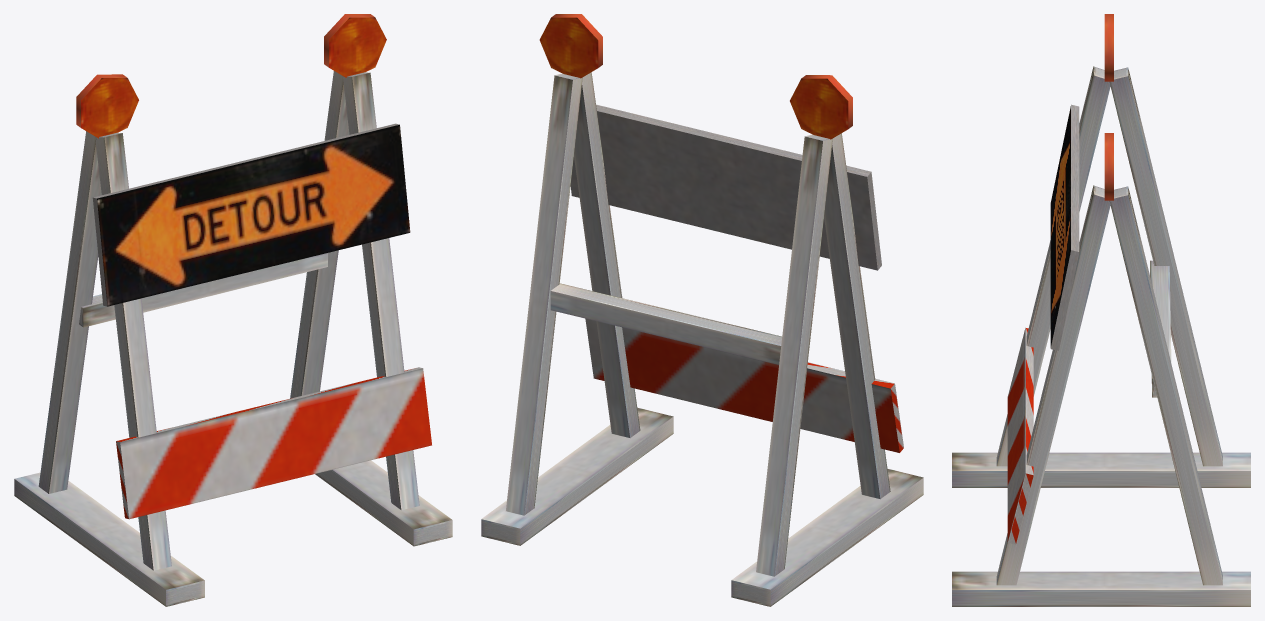
File: D_rclose_04.FBX
The picture shows the model from 3 angles, left to right: view 1: azimuth 30°, elevation 25°; view 2: azimuth 150°, elevation 25°; view 3: azimuth 270°, elevation 25°; orthographic projection. The views are drawn at different scales.
Visible parts, largest first — view 1: Box008; view 2: Box008; view 3: Box008.
Boxes of the visible parts, x1,y1,x2,y2 form: Box008: (14, 14, 452, 606); Box008: (481, 14, 923, 606); Box008: (952, 14, 1250, 606).
Size of the model in its own units: 2.86 by 4.17 by 2.45.
